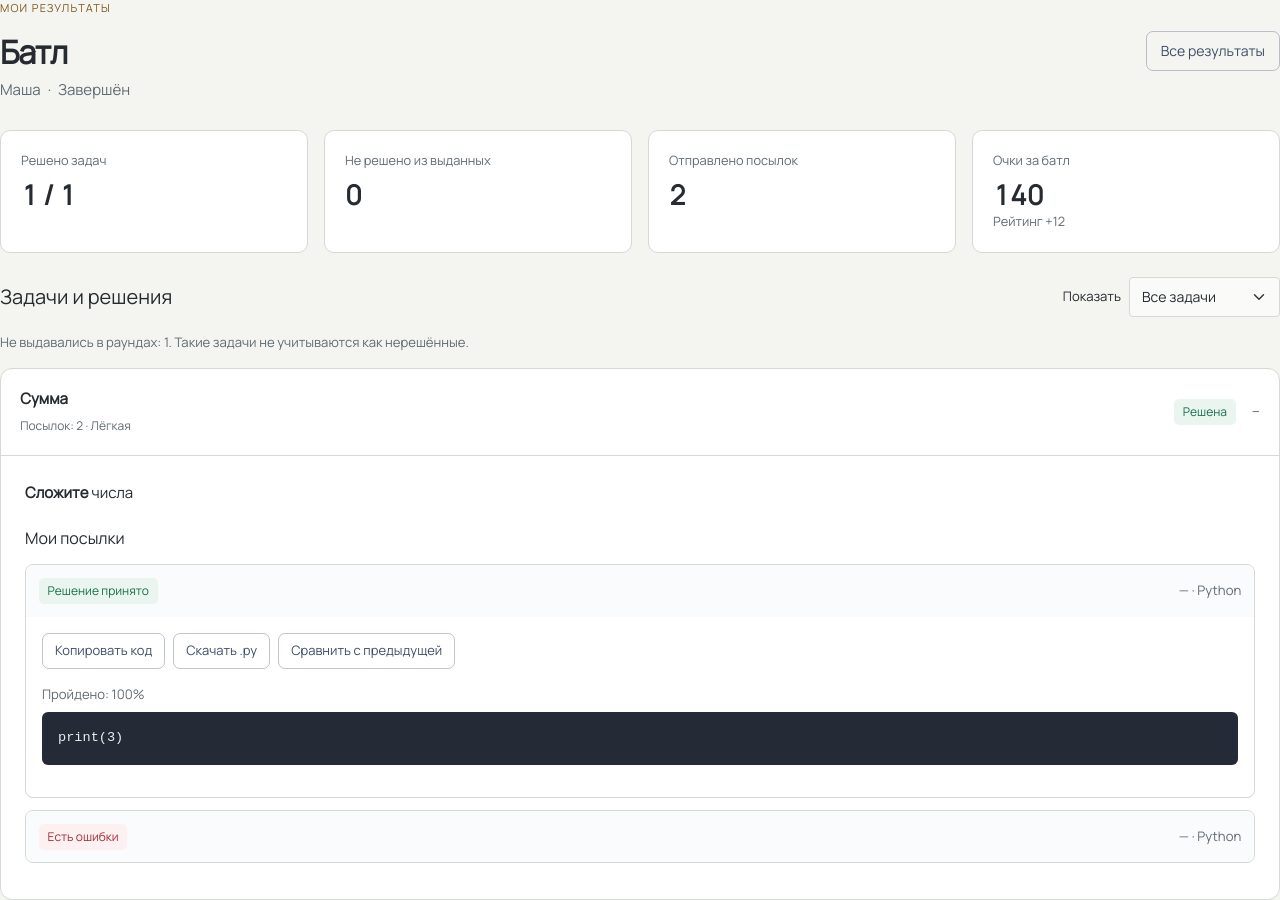
it: shows both accepted and failed code as text and distinguishes unassigned tasks
Select "Нерешённые" in the dropdown labelled "Показать" at (1204, 297), box [1129,277,1279,317]
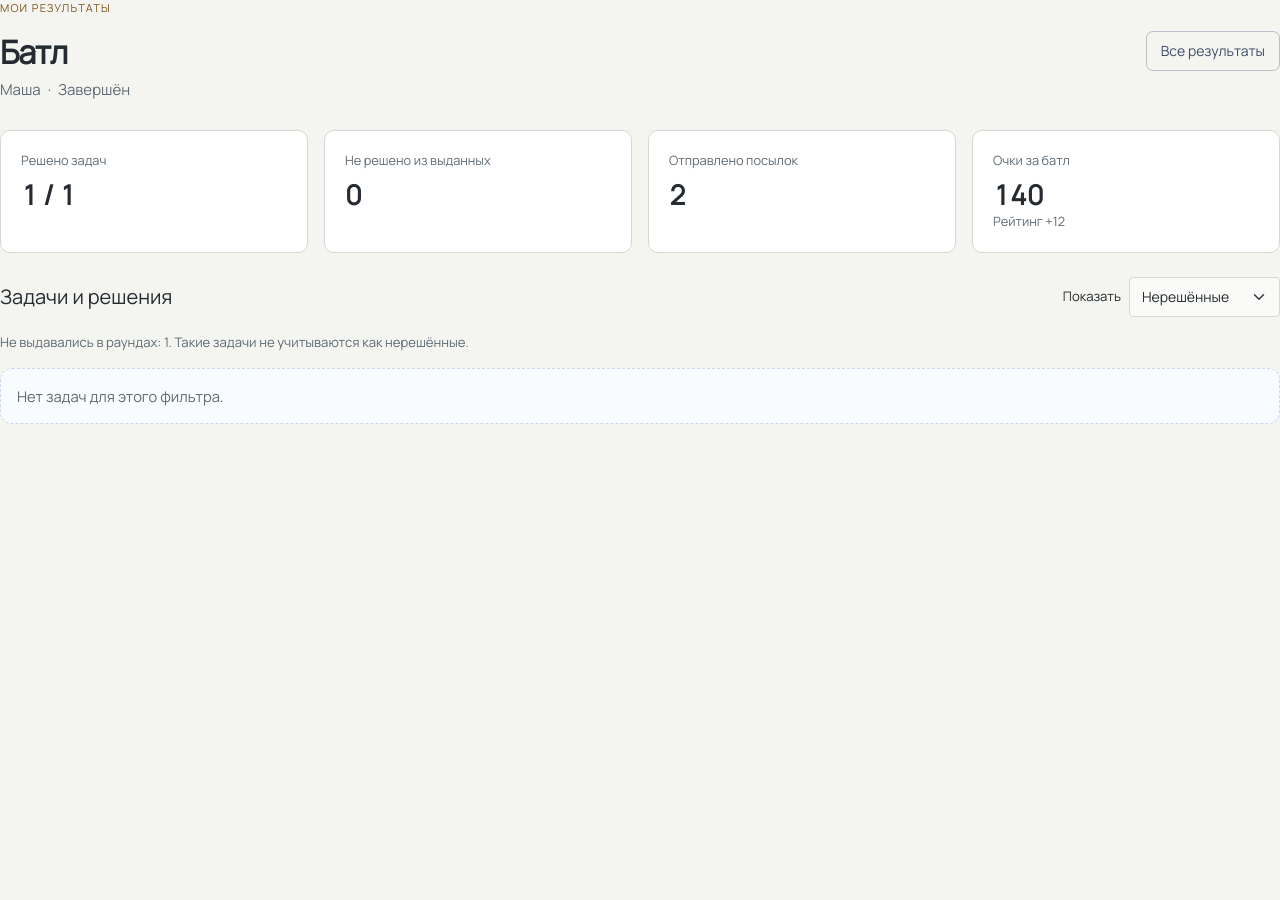
Now no elements with class "result-task" are shown
